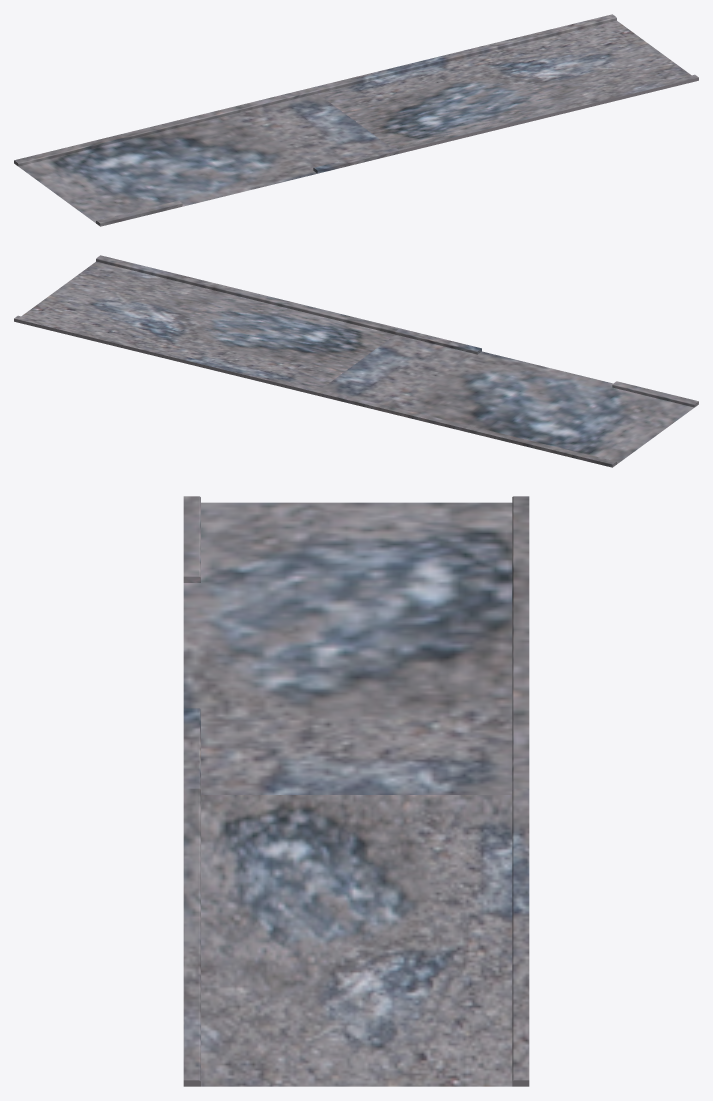
File: yol.fbx
3 views of the same model, one above another, from view 1: azimuth 30°, elevation 25°; view 2: azimuth 150°, elevation 25°; view 3: azimuth 270°, elevation 25° (orthographic). The views are drawn at different scales.
Parts seen in each view (by area): view 1: Plane.001, Plane; view 2: Plane, Plane.001; view 3: Plane.001, Plane.
Part boxes in pixels (x1,y1,x2,y2): Plane.001: (14, 87, 399, 226); Plane: (313, 14, 698, 153); Plane: (14, 255, 399, 394); Plane.001: (313, 328, 698, 467); Plane.001: (183, 496, 529, 794); Plane: (183, 788, 529, 1086).
Size of the model in its own units: 400 by 2 by 100.
